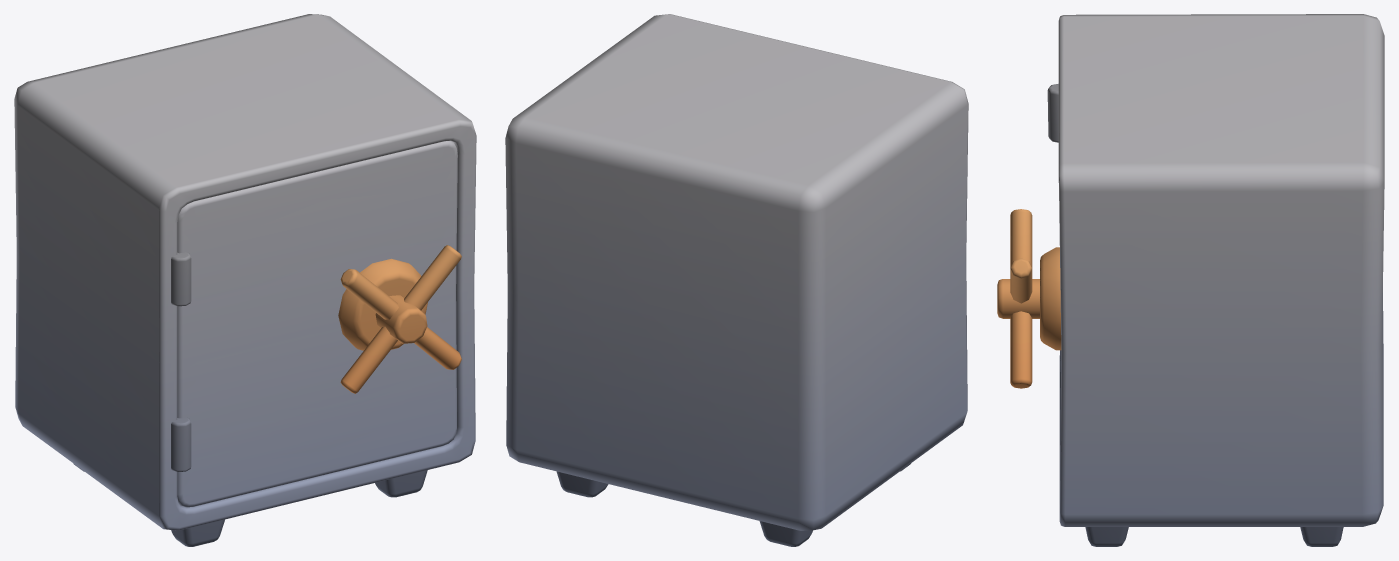
Rendered from safe_mesh.fbx.
3 renders of one model, left to right at view 1: azimuth 30°, elevation 25°; view 2: azimuth 150°, elevation 25°; view 3: azimuth 270°, elevation 25°, orthographic. The views are drawn at different scales.
Visible parts, largest first — view 1: safe_a, safe_door; view 2: safe_a; view 3: safe_a, safe_door.
Boxes of the visible parts, x1,y1,x2,y2 form: safe_a: (14,14,476,546); safe_door: (177,141,461,507); safe_a: (505,14,968,546); safe_a: (1047,14,1384,546); safe_door: (997,209,1061,388).
Size of the model in its own units: 1.38 by 1.57 by 1.38.
Materials: 1 (1 with a texture image).
